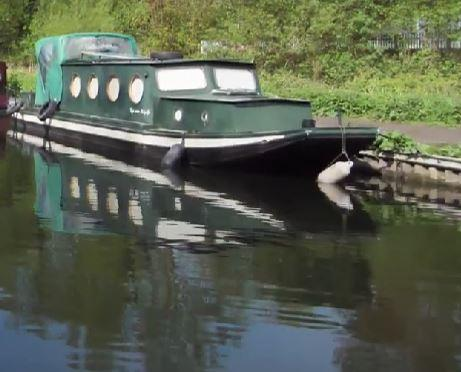Ship: (6, 42, 389, 186)
